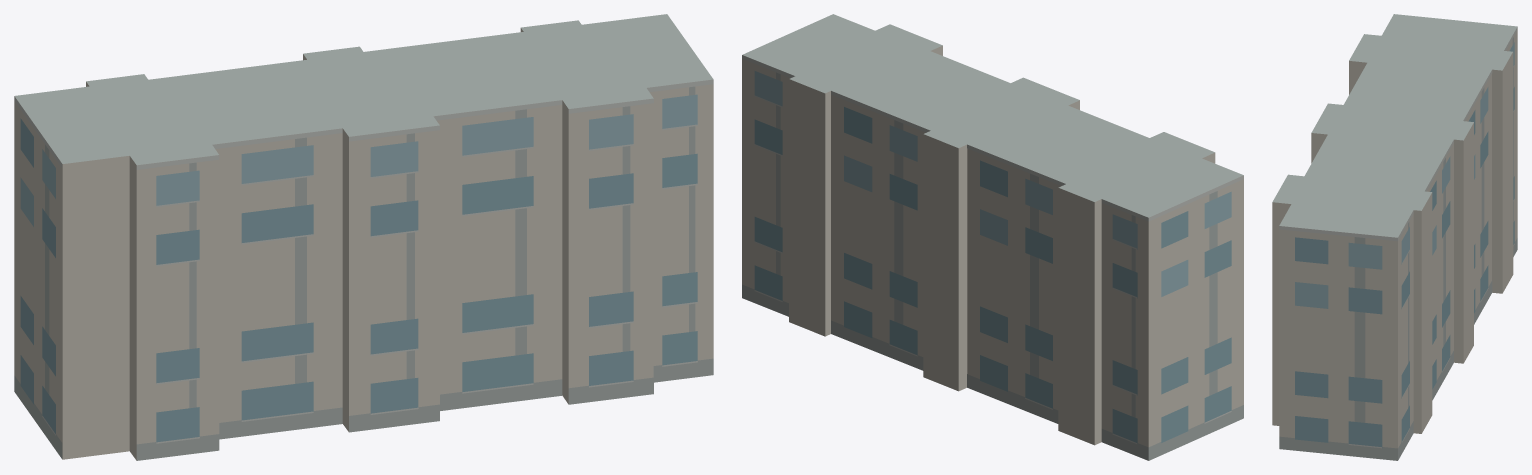
The model's file is survey-upis-32983033.glb.
3 views of the same model, side by side, from view 1: azimuth 30°, elevation 25°; view 2: azimuth 150°, elevation 25°; view 3: azimuth 270°, elevation 25° (orthographic). The views are drawn at different scales.
Visible parts, largest first — view 1: survey-upis-32983033.tmp; view 2: survey-upis-32983033.tmp; view 3: survey-upis-32983033.tmp.
Part boxes in pixels (x1,y1,x2,y2): survey-upis-32983033.tmp: (14, 14, 713, 460); survey-upis-32983033.tmp: (742, 14, 1243, 460); survey-upis-32983033.tmp: (1272, 14, 1517, 460).
Size of the model in its own units: 32.8 by 15.25 by 15.2.
